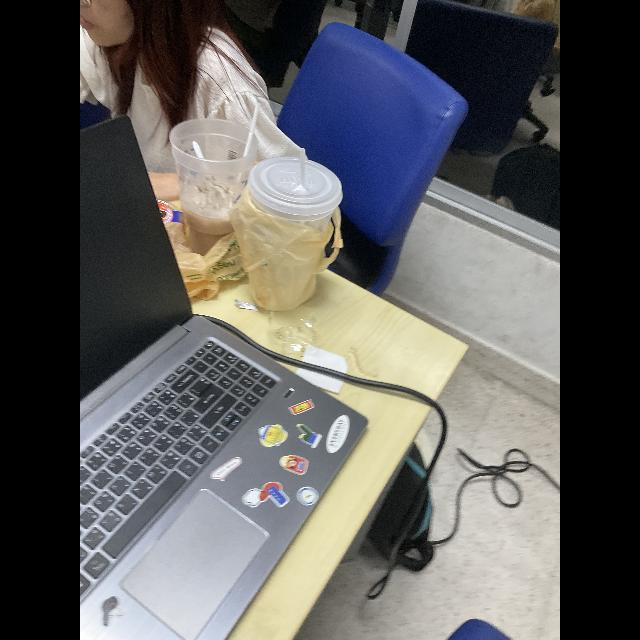plastic_bag: (224, 190, 344, 316), (149, 190, 249, 304)
plastic_cultery: (190, 140, 218, 198)
plastic_cup: (170, 111, 256, 249)
plastic_cup_lid: (248, 150, 346, 220)
scrap_paper: (294, 342, 354, 396)
scrap_plastic: (260, 311, 318, 353)
straw: (230, 108, 262, 208), (293, 146, 311, 192)
